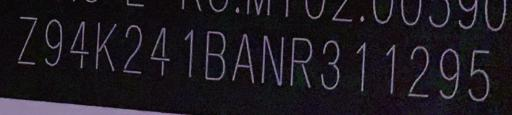letter: (229, 29, 257, 84), (466, 48, 492, 103), (260, 32, 286, 87), (287, 35, 313, 90), (406, 44, 432, 99), (201, 29, 227, 82), (92, 21, 118, 72), (148, 25, 172, 78), (68, 19, 92, 70), (438, 45, 460, 100), (318, 38, 340, 93), (42, 17, 64, 70), (16, 15, 38, 66), (122, 24, 144, 75), (380, 42, 398, 95), (180, 27, 196, 78), (354, 39, 368, 92)
